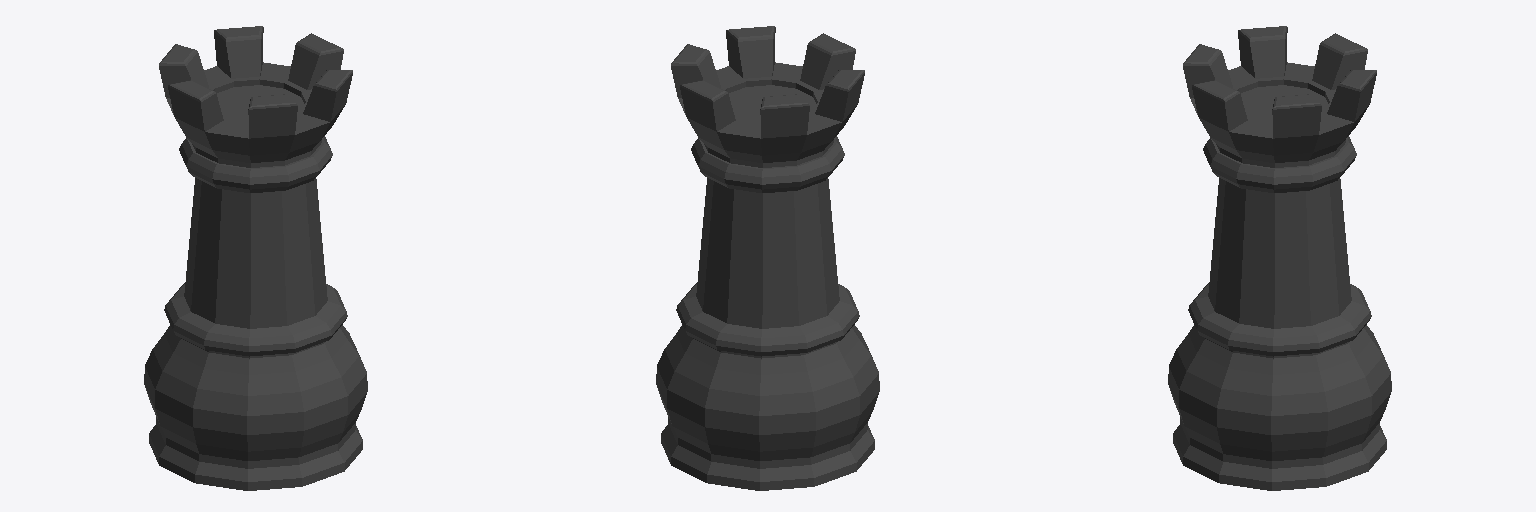
3 renders of one model, left to right at view 1: azimuth 30°, elevation 25°; view 2: azimuth 150°, elevation 25°; view 3: azimuth 270°, elevation 25°, orthographic.
Parts seen in each view (by area): view 1: _Castle; view 2: _Castle; view 3: _Castle.
Boxes of the visible parts, x1=… form: _Castle: x1=144, y1=26, x2=367, y2=490; _Castle: x1=656, y1=26, x2=879, y2=490; _Castle: x1=1168, y1=26, x2=1391, y2=490.
Bounding box in the file's own units: 2.67 × 5.01 × 2.67.